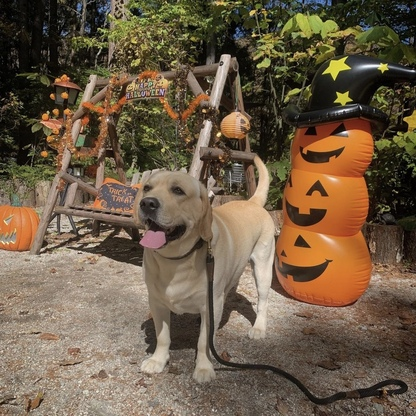labrado: (127, 155, 278, 393)
